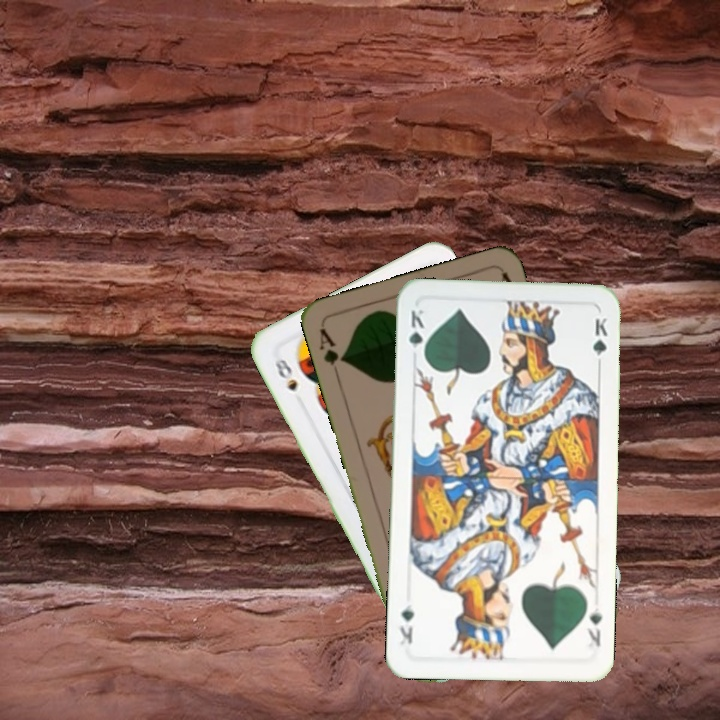GA: (315, 324, 348, 381)
GK: (405, 305, 427, 362), (581, 602, 605, 650)
S8: (270, 354, 300, 395)
